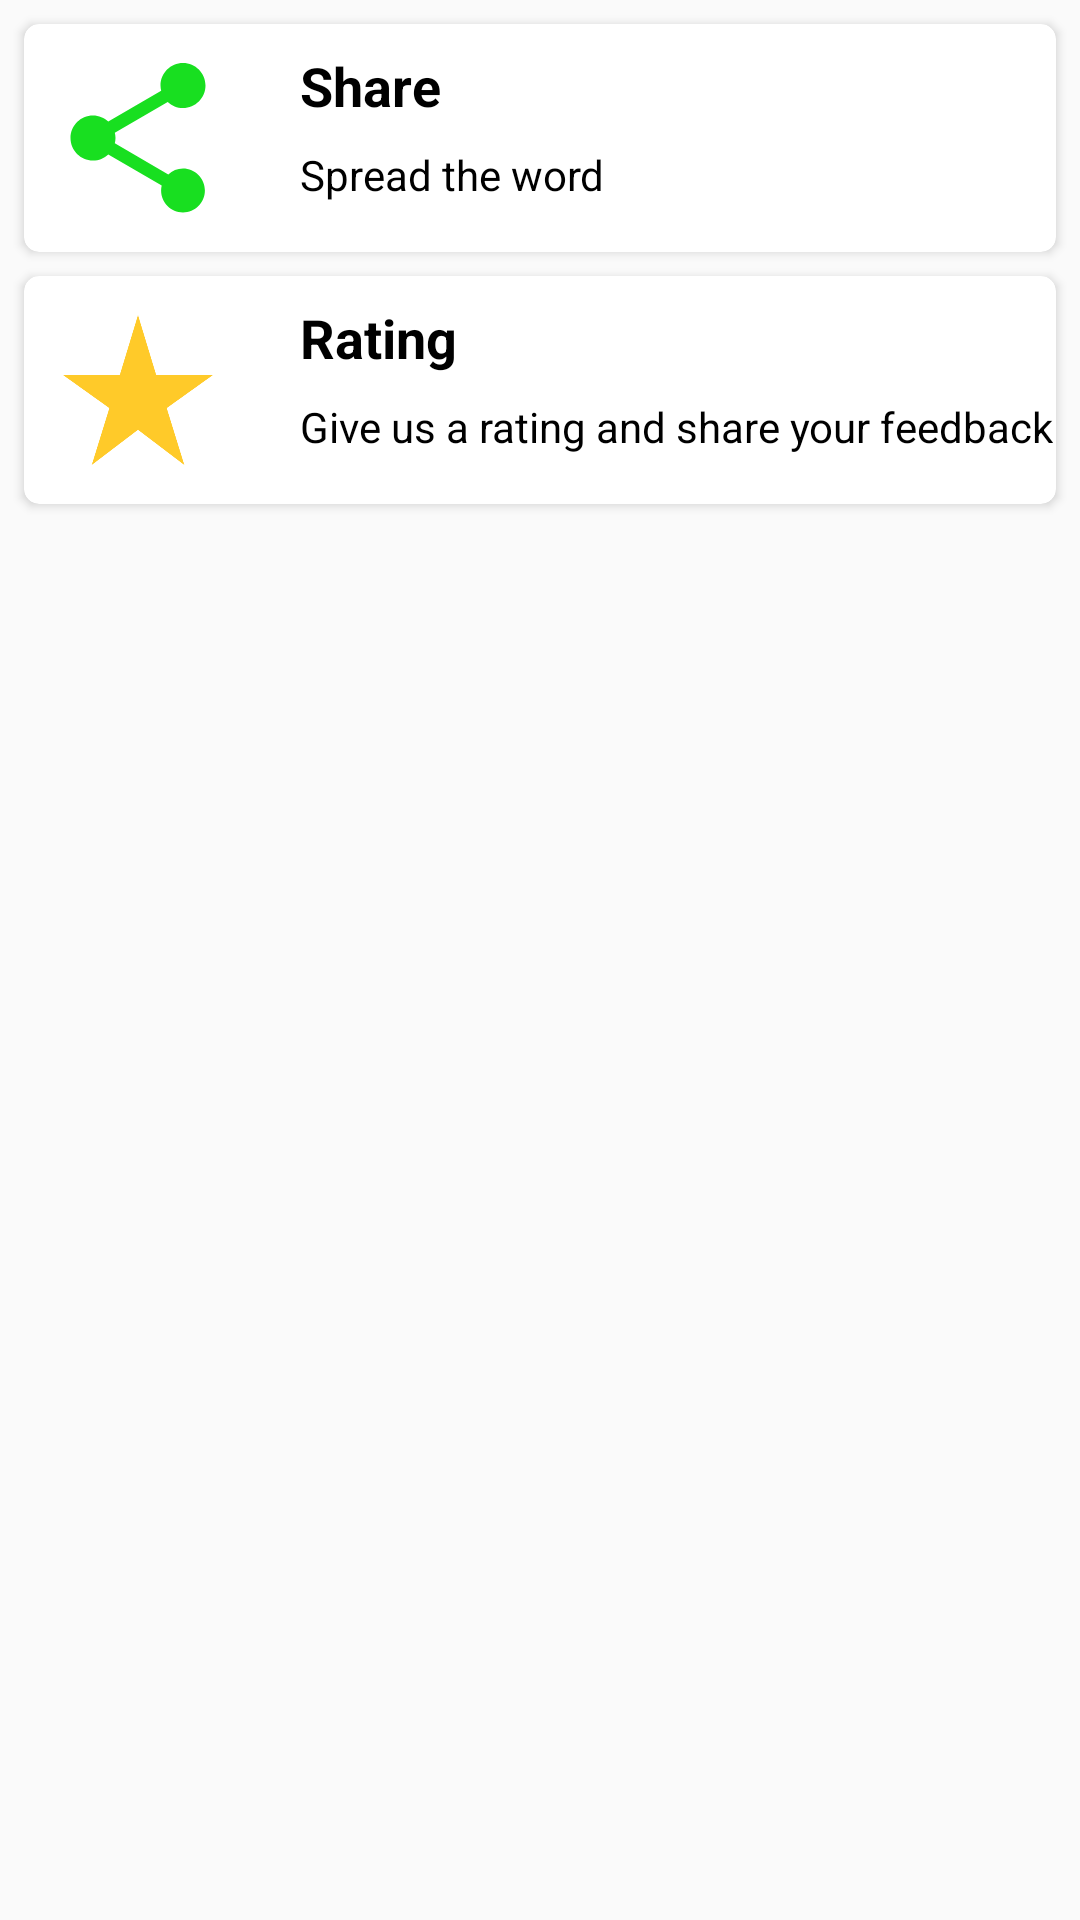

Icons on this 1080 × 1920 Android screen, each with its box as (x1, y1, x2, y2):
star rate: (63, 316, 213, 465)
